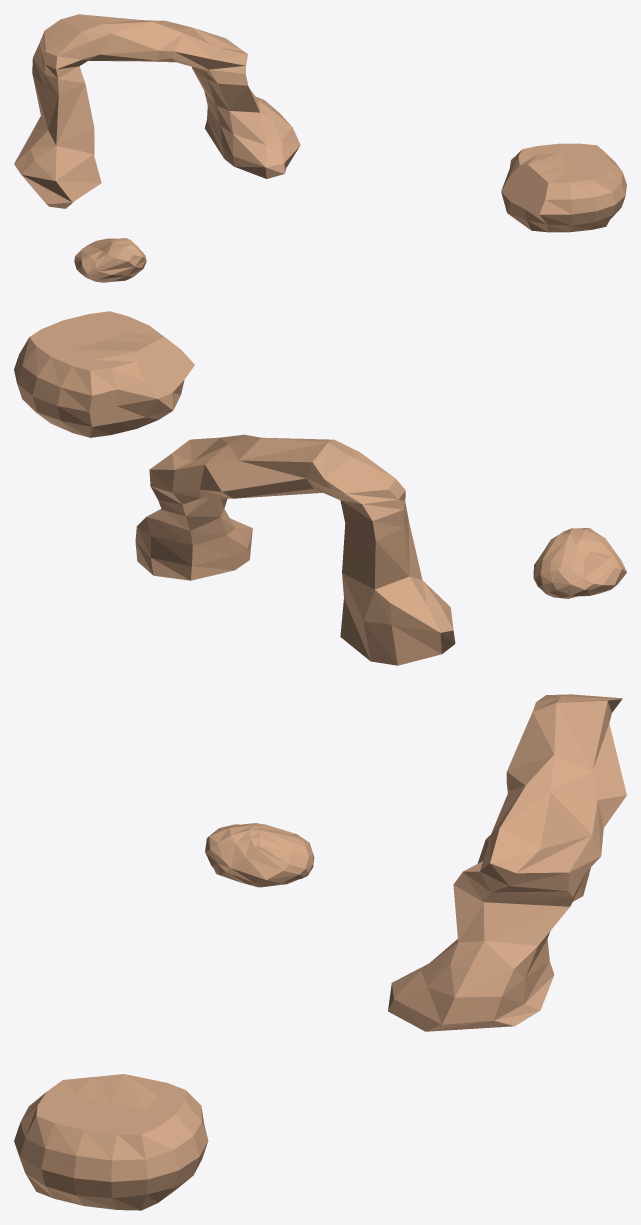
The model's file is desert-23-17.glb.
3 renders of one model, top to bottom at view 1: azimuth 30°, elevation 25°; view 2: azimuth 150°, elevation 25°; view 3: azimuth 270°, elevation 25°, orthographic. The views are drawn at different scales.
Visible parts, largest first — view 1: desert-23-17; view 2: desert-23-17; view 3: desert-23-17.
Boxes of the visible parts, x1=… form: desert-23-17: x1=14, y1=14, x2=626, y2=282; desert-23-17: x1=14, y1=311, x2=626, y2=665; desert-23-17: x1=14, y1=694, x2=626, y2=1210.
Size of the model in its own units: 116 by 36 by 82.26.
